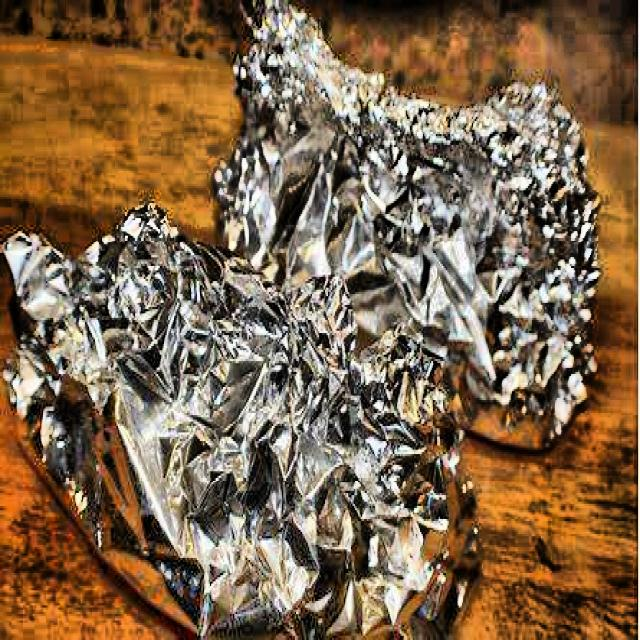Foil: (0, 193, 486, 640), (192, 0, 610, 465)
